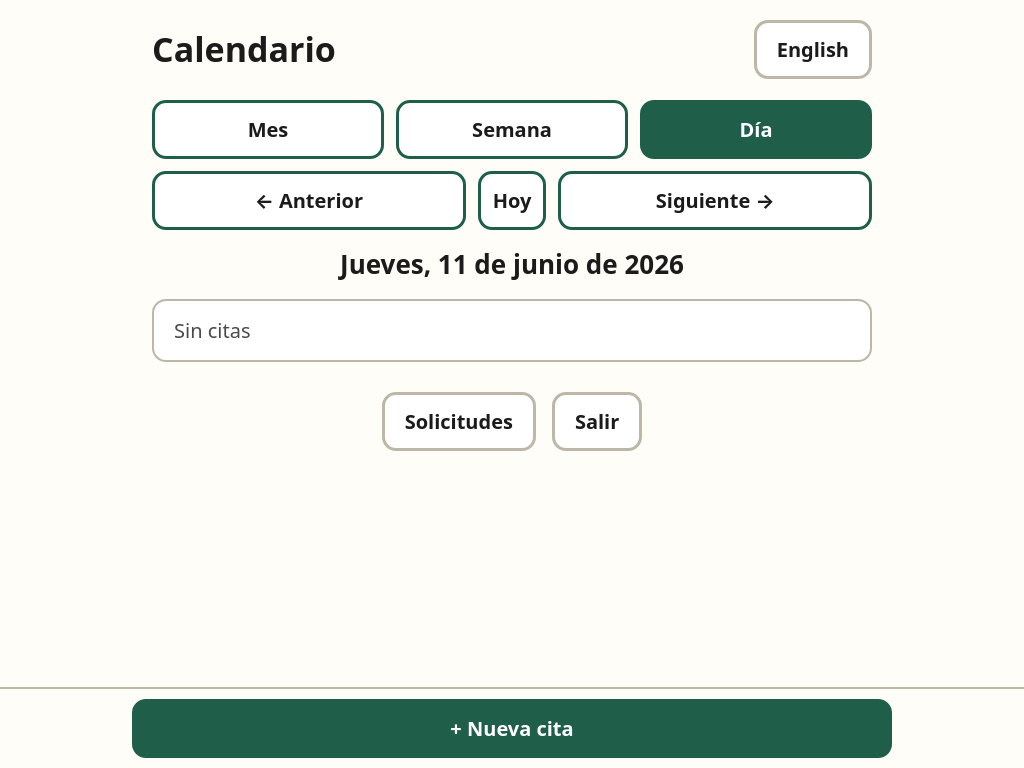
Scenario: calendar home screen › shows "Sin citas" on an empty day and steps one day at a time
Expected: the text "Sin citas" is shown, [174,317,250,344]
Click the button "← Anterior": (309, 200) [152,171,466,230]
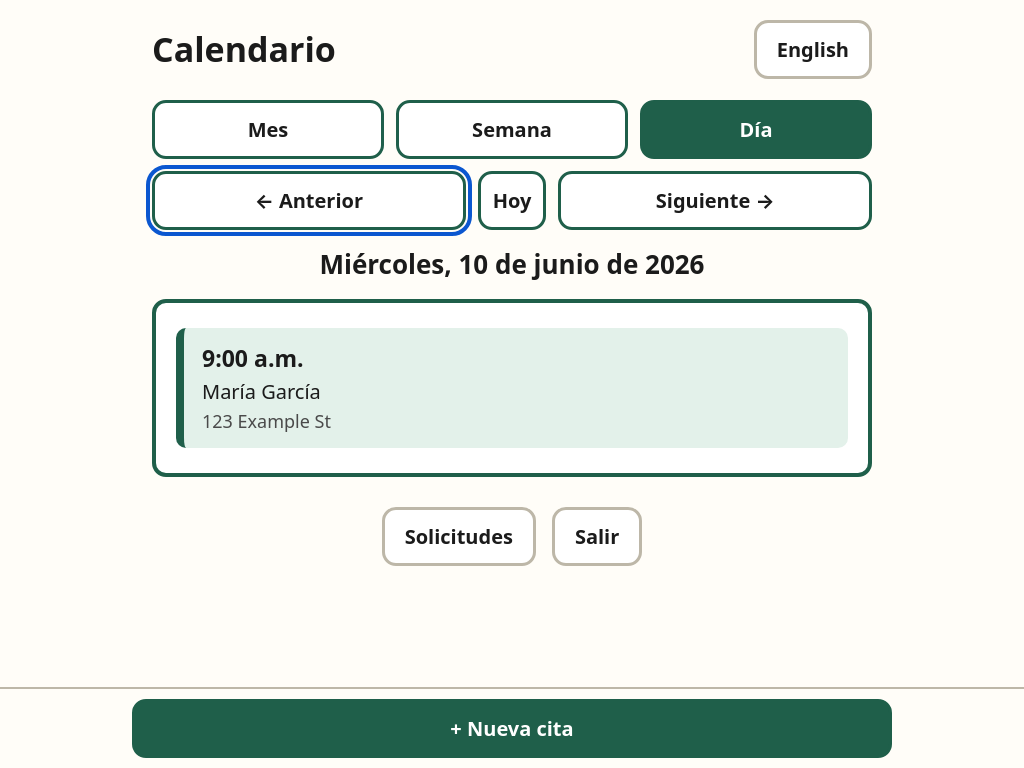
Now the link "9:00 a.m. María García 123 Example St" is shown, box [176,328,848,448]
Now the heading "miércoles, 10 de junio de 2026" is shown, box [320,246,704,282]
